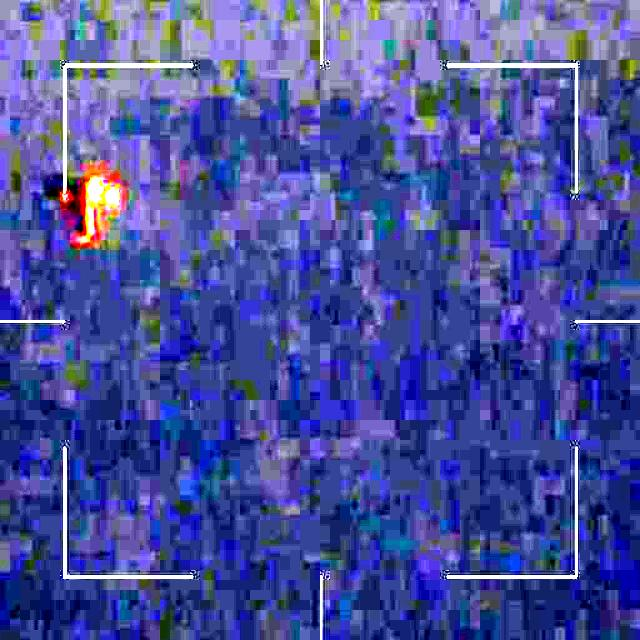bird: (41, 168, 121, 249)
